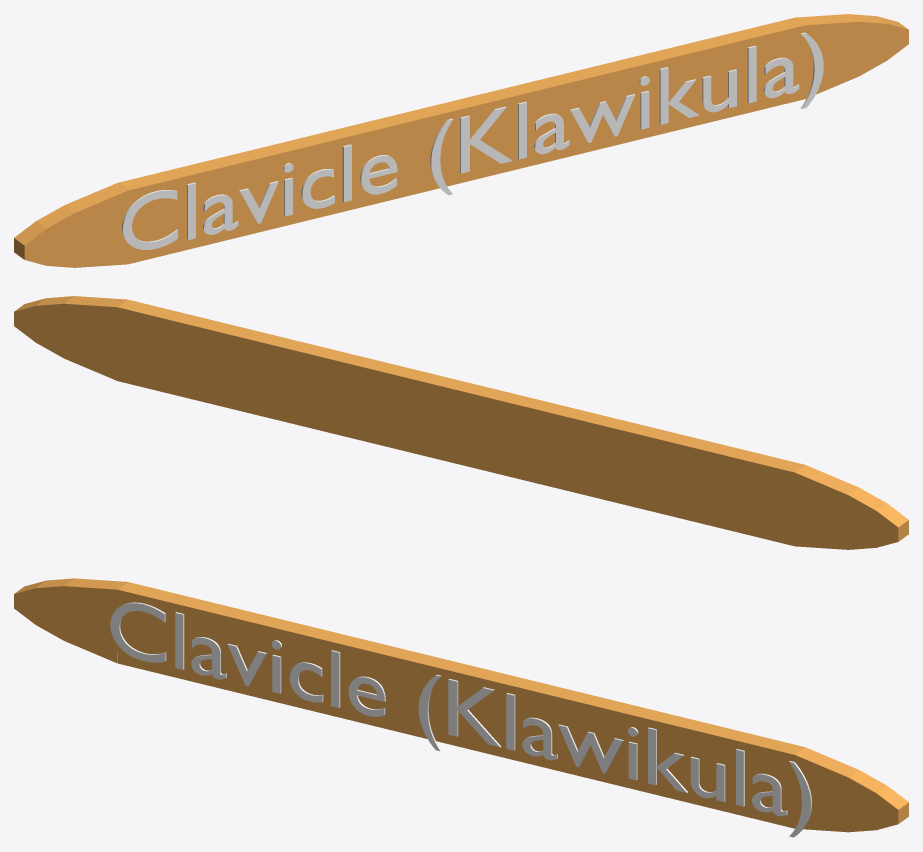
File: txtClavicle.fbx
The picture shows the model from 3 angles, top to bottom: view 1: azimuth 30°, elevation 25°; view 2: azimuth 150°, elevation 25°; view 3: azimuth 330°, elevation 25°; orthographic projection.
Visible parts, largest first — view 1: TagContainer.047, Text.048; view 2: TagContainer.047; view 3: TagContainer.047, Text.048.
Part boxes in pixels (<box>): TagContainer.047: <box>14,14,908,267</box>; Text.048: <box>122,32,823,249</box>; TagContainer.047: <box>14,296,908,549</box>; TagContainer.047: <box>14,578,908,832</box>; Text.048: <box>110,602,811,837</box>.
Size of the model in its own units: 518 by 45.81 by 11.79.
